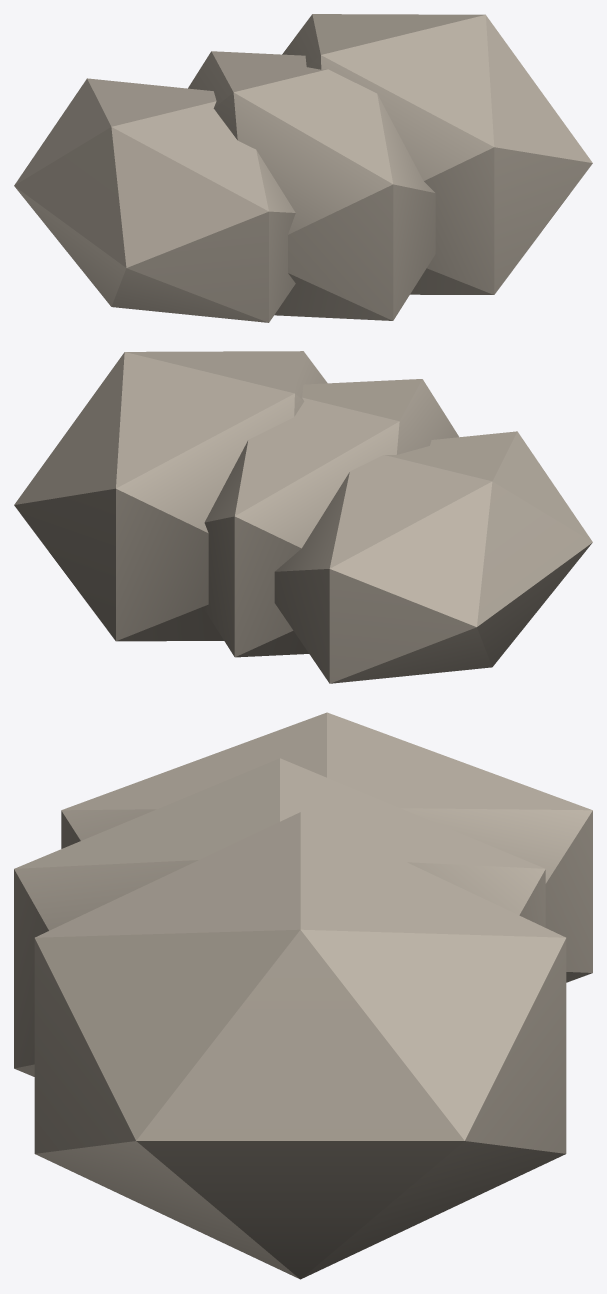
The model's file is rock-outcrop-3.glb.
The picture shows the model from 3 angles, top to bottom: view 1: azimuth 30°, elevation 25°; view 2: azimuth 150°, elevation 25°; view 3: azimuth 270°, elevation 25°; orthographic projection. The views are drawn at different scales.
Parts seen in each view (by area): view 1: rock-outcrop-3; view 2: rock-outcrop-3; view 3: rock-outcrop-3.
Part boxes in pixels (x1,y1,x2,y2): rock-outcrop-3: [14, 14, 592, 322]; rock-outcrop-3: [14, 351, 592, 683]; rock-outcrop-3: [14, 712, 592, 1279].
Size of the model in its own units: 4 by 2 by 3.
